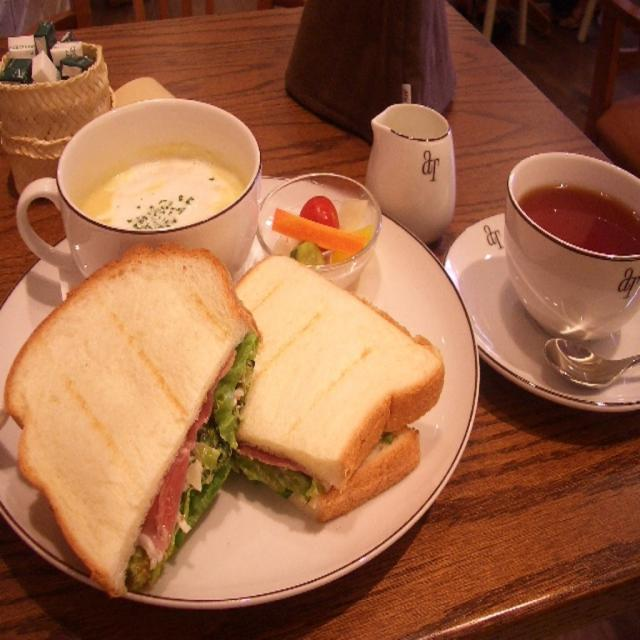Tea: (518, 183, 639, 265)
